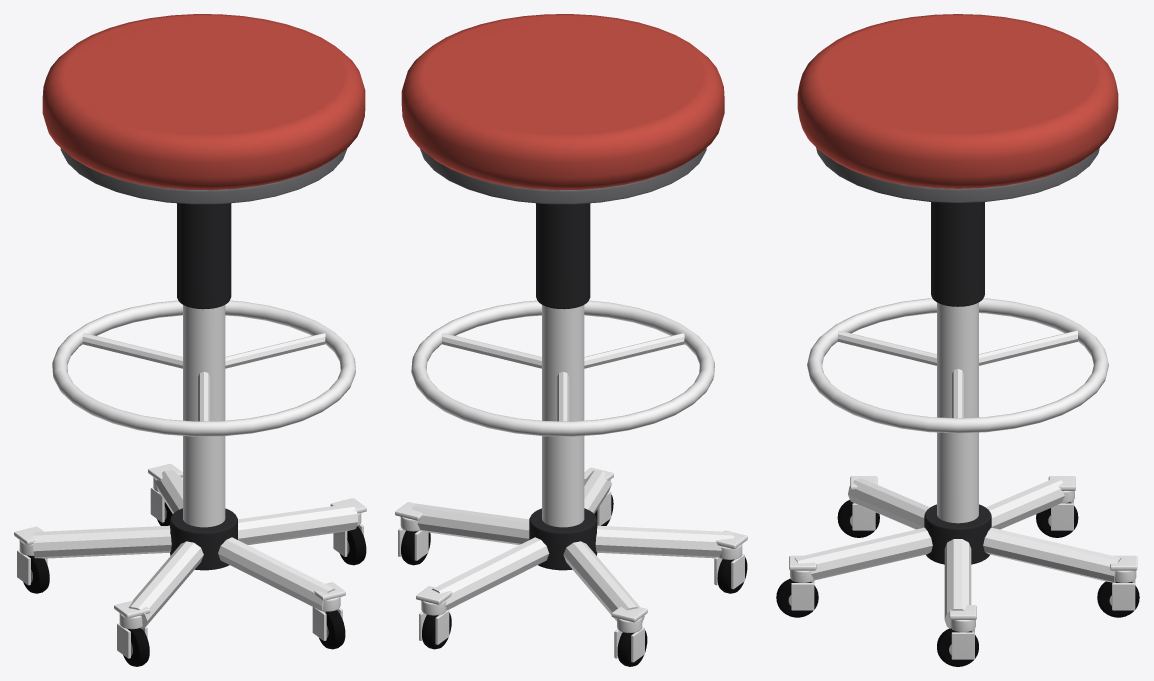
File: industrial.workshop.seat_stool.glb
The picture shows the model from 3 angles, left to right: view 1: azimuth 30°, elevation 25°; view 2: azimuth 150°, elevation 25°; view 3: azimuth 270°, elevation 25°; orthographic projection.
Visible parts, largest first — view 1: main__paint_c44, main__chrome_eee, main__paint_222, main__galv_777, main__rubber; view 2: main__paint_c44, main__chrome_eee, main__paint_222, main__galv_777, main__rubber; view 3: main__paint_c44, main__chrome_eee, main__paint_222, main__galv_777, main__rubber.
Part boxes in pixels (box(x1,y1,x2,y2)): main__paint_c44: box(42, 14, 365, 190); main__chrome_eee: box(14, 300, 366, 658); main__paint_222: box(170, 203, 237, 570); main__galv_777: box(60, 148, 347, 204); main__rubber: box(23, 502, 366, 666); main__paint_c44: box(401, 14, 724, 190); main__chrome_eee: box(395, 300, 747, 662); main__paint_222: box(529, 203, 597, 570); main__galv_777: box(419, 148, 706, 204); main__rubber: box(401, 495, 747, 666); main__paint_c44: box(797, 14, 1118, 188); main__chrome_eee: box(789, 298, 1137, 659); main__paint_222: box(924, 202, 991, 564); main__galv_777: box(816, 147, 1099, 202); main__rubber: box(776, 500, 1139, 666).
Bounding box in the file's own units: 0.4062 × 0.68 × 0.4304.
